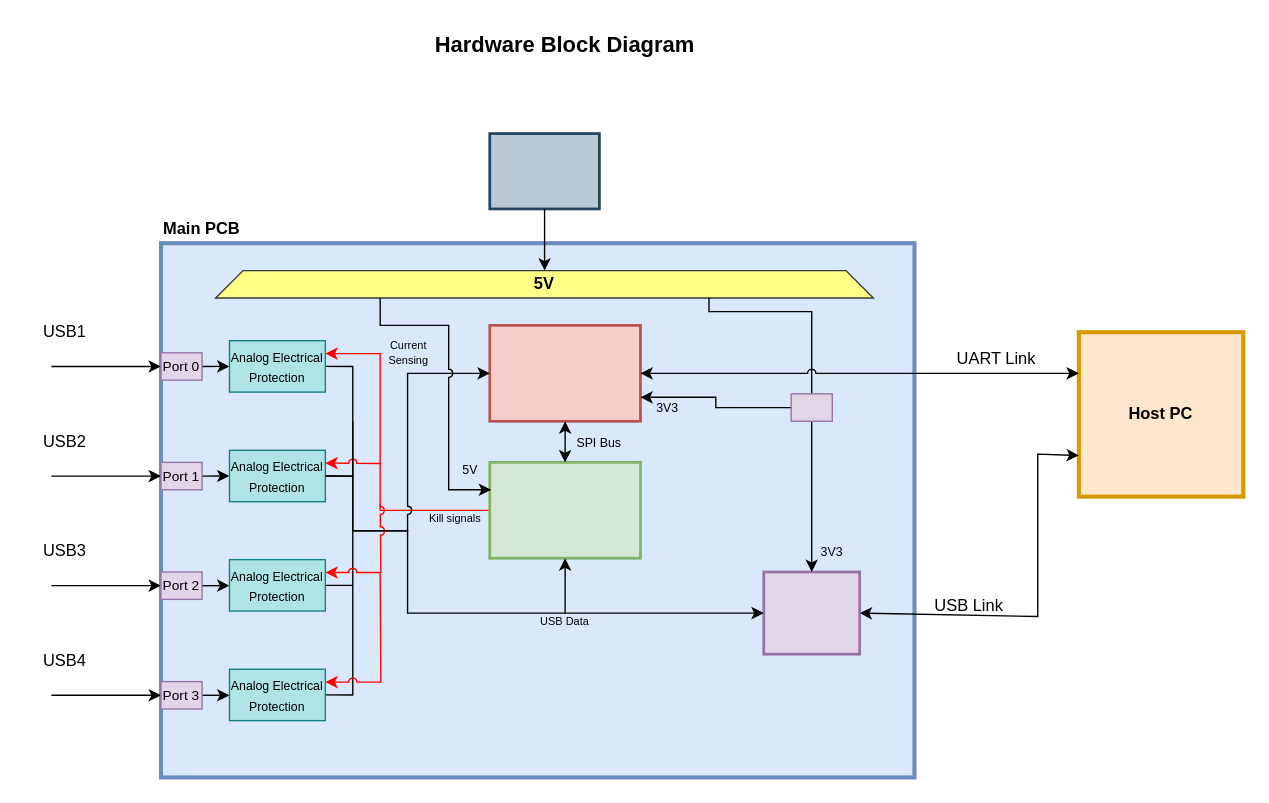
This 1269x803 diagram has some shape labels left out. The box of each missing label's shape, as (x1, y1, x2, y2) in pixels:
aux power: (488, 132, 600, 210)
FPGA (Digilent Cmod S7 Dev Board): (488, 460, 641, 559)
LDO: (790, 393, 832, 421)
MCU (STM32F411): (488, 323, 641, 422)
USB Hub IC: (762, 570, 860, 655)
